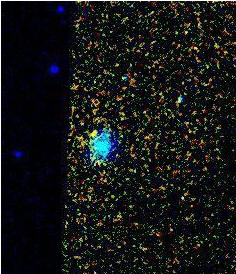star: (80, 116, 110, 146)
